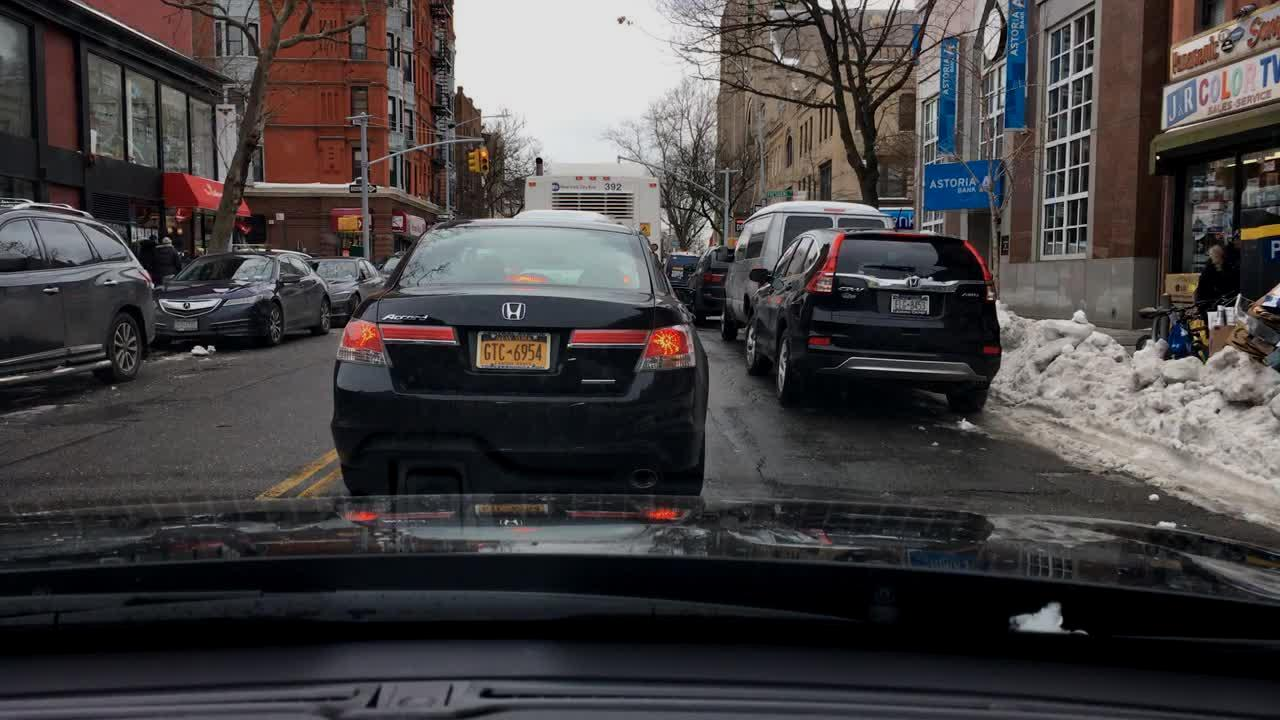Honda: (493, 289, 534, 330), (903, 272, 923, 293)
